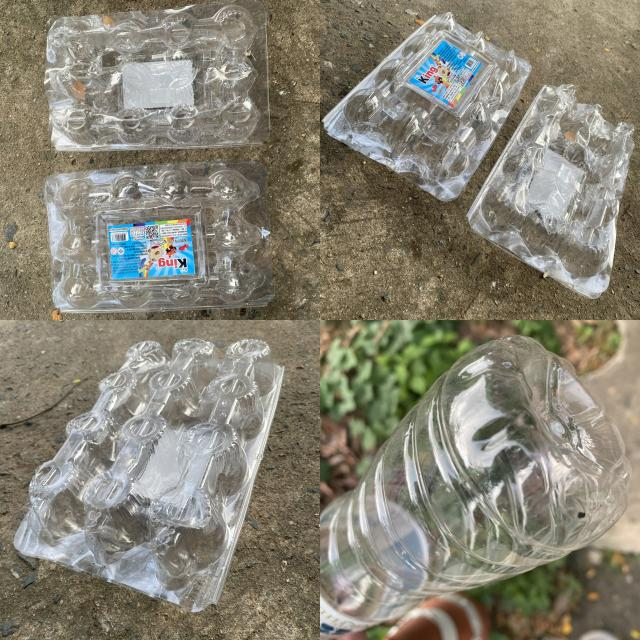Single-Use-Plastic: (11, 338, 284, 611), (322, 12, 531, 201), (468, 85, 634, 299), (44, 162, 274, 312), (45, 0, 270, 151)
